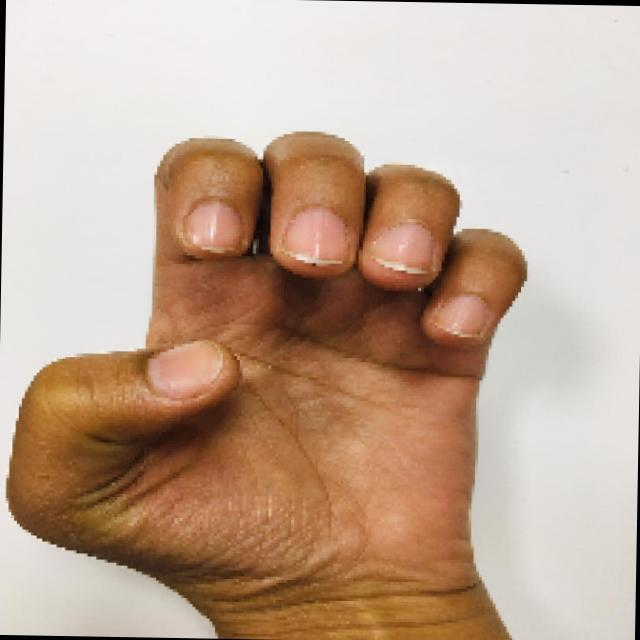Nail: (147, 340, 223, 399), (282, 208, 348, 266), (182, 199, 241, 254), (371, 223, 434, 274), (432, 294, 489, 338)
